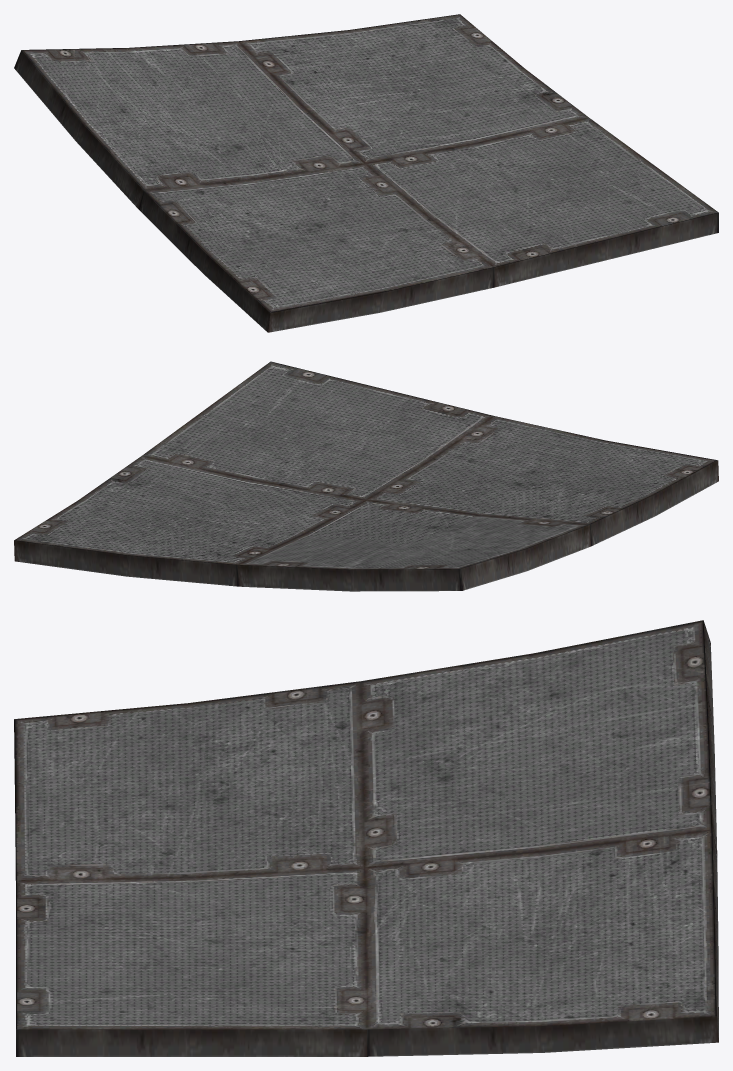
File: pplant_first_floor_damaged02.dae
The picture shows the model from 3 angles, top to bottom: view 1: azimuth 30°, elevation 25°; view 2: azimuth 150°, elevation 25°; view 3: azimuth 270°, elevation 25°; orthographic projection. The views are drawn at different scales.
Visible parts, largest first — view 1: first_floor_damaged02; view 2: first_floor_damaged02; view 3: first_floor_damaged02.
Part boxes in pixels (<box>): first_floor_damaged02: <box>14,14,718,332</box>; first_floor_damaged02: <box>14,361,718,591</box>; first_floor_damaged02: <box>14,620,718,1056</box>.
Bounding box in the file's own units: 2.01 × 0.4492 × 2.01.
